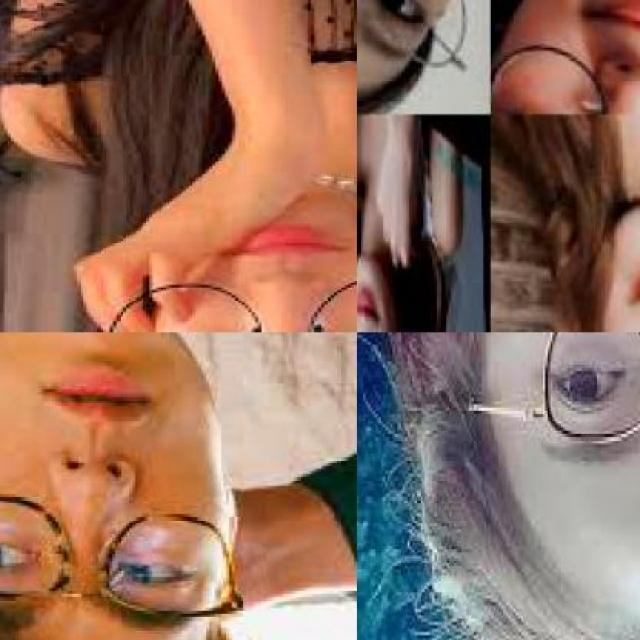mask: (0, 487, 272, 626), (463, 341, 640, 438), (102, 275, 356, 331), (492, 32, 638, 116), (357, 0, 491, 88)
